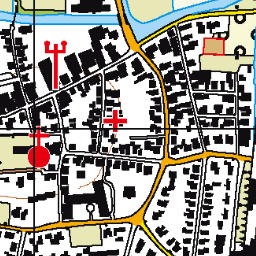church: (22, 125, 55, 169)
